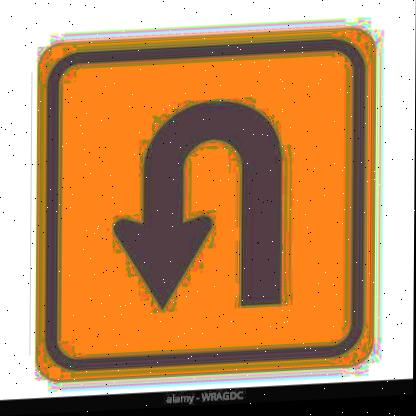U-turn: (57, 57, 350, 363)
